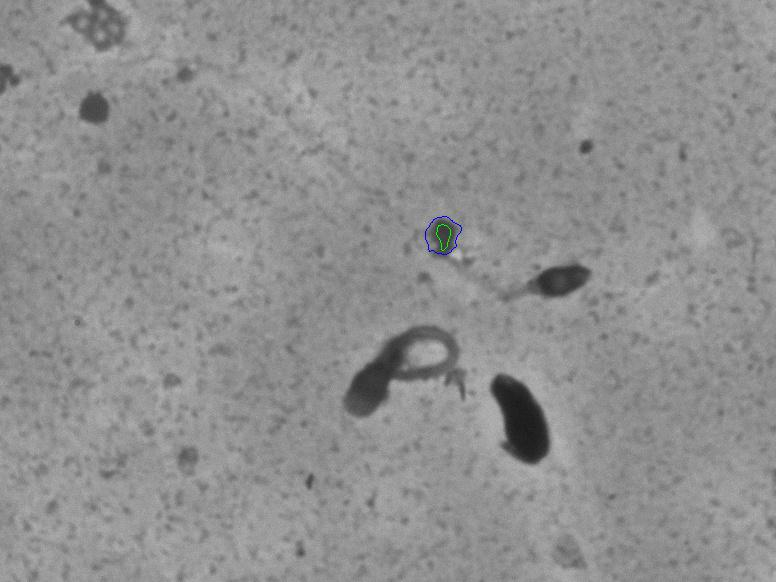Abnormal: (317, 303, 478, 439), (481, 218, 631, 333)
